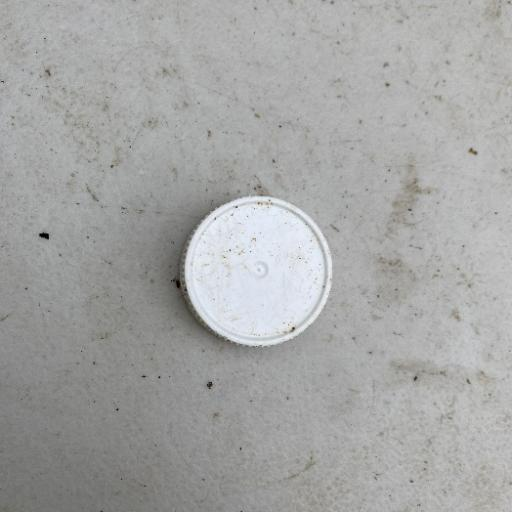Plastic: (177, 193, 334, 349)
